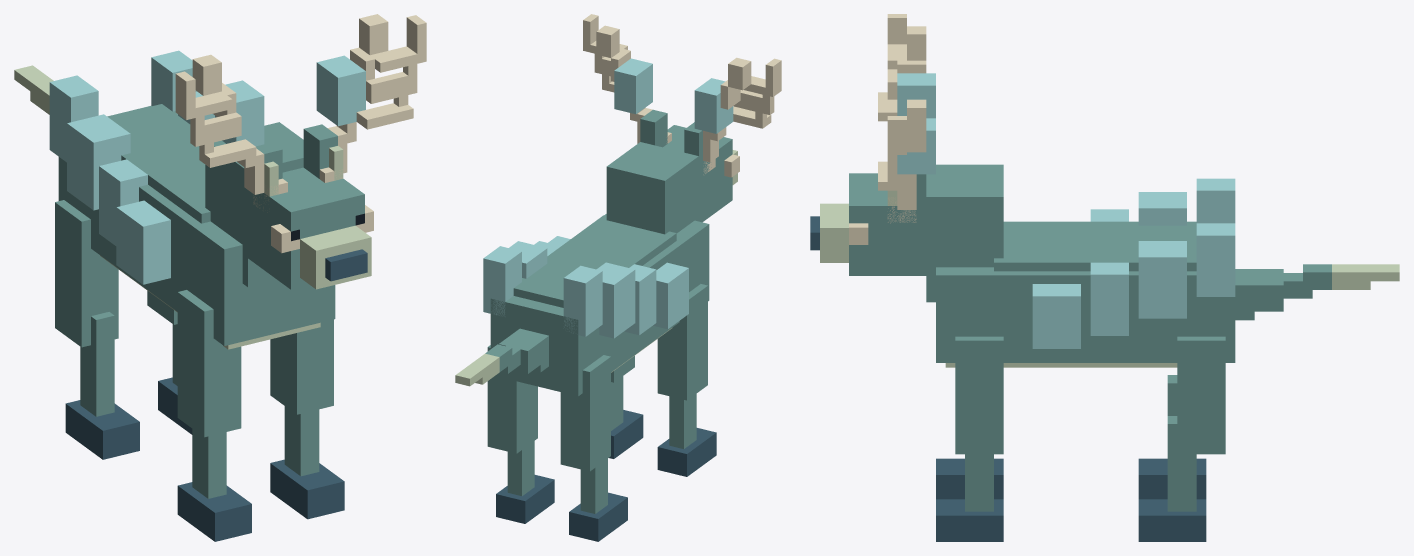
File: prism_deer.glb
3 renders of one model, left to right at view 1: azimuth 30°, elevation 25°; view 2: azimuth 150°, elevation 25°; view 3: azimuth 270°, elevation 25°, orthographic. The views are drawn at different scales.
Visible parts, largest first — view 1: prism_deer/thorax, prism_deer/leaf_mantle, prism_deer/left_hindleg, prism_deer/left_foreleg, prism_deer/head, prism_deer/right_foreleg, prism_deer/antler_1, prism_deer/antler_-1, prism_deer/neck, prism_deer/head_ear_r, prism_deer/right_hindleg, prism_deer/tail (+1 smaller); view 2: prism_deer/thorax, prism_deer/leaf_mantle, prism_deer/left_hindleg, prism_deer/left_foreleg, prism_deer/neck, prism_deer/right_hindleg, prism_deer/antler_-1, prism_deer/antler_1, prism_deer/head, prism_deer/tail, prism_deer/right_foreleg, prism_deer/head_ear_r (+1 smaller); view 3: prism_deer/thorax, prism_deer/leaf_mantle, prism_deer/right_hindleg, prism_deer/right_foreleg, prism_deer/head, prism_deer/neck, prism_deer/tail, prism_deer/antler_1, prism_deer/antler_-1, prism_deer/left_hindleg, prism_deer/left_foreleg.
Boxes of the visible parts, x1,y1,x2,y2 form: prism_deer/thorax: (58,104,335,349); prism_deer/leaf_mantle: (49,50,214,284); prism_deer/left_hindleg: (55,200,139,459); prism_deer/left_foreleg: (177,290,251,541); prism_deer/head: (239,167,373,289); prism_deer/right_foreleg: (270,319,344,519); prism_deer/antler_1: (316,14,426,182); prism_deer/antler_-1: (175,54,287,212); prism_deer/neck: (205,122,303,287); prism_deer/head_ear_r: (303,124,343,180); prism_deer/right_hindleg: (147,291,192,434); prism_deer/tail: (14,65,53,114); prism_deer/thorax: (490,214,709,396); prism_deer/leaf_mantle: (483,236,688,338); prism_deer/left_hindleg: (560,355,627,541); prism_deer/left_foreleg: (657,284,716,476); prism_deer/neck: (606,142,698,234); prism_deer/right_hindleg: (487,345,554,523); prism_deer/antler_-1: (694,57,781,174); prism_deer/antler_1: (583,14,671,143); prism_deer/head: (663,125,739,223); prism_deer/tail: (455,328,548,386); prism_deer/right_foreleg: (609,356,643,458); prism_deer/head_ear_r: (640,109,667,147); prism_deer/thorax: (936,221,1235,367); prism_deer/leaf_mantle: (1032,178,1235,348); prism_deer/right_hindleg: (1138,336,1225,541); prism_deer/right_foreleg: (936,336,1003,541); prism_deer/head: (810,173,945,275); prism_deer/neck: (926,164,1003,302); prism_deer/tail: (1235,264,1399,320); prism_deer/antler_1: (878,99,935,223); prism_deer/antler_-1: (878,14,935,121); prism_deer/left_hindleg: (1138,375,1206,499); prism_deer/left_foreleg: (936,458,1003,499).
Size of the model in its own units: 0.8125 by 1.59 by 1.91.
